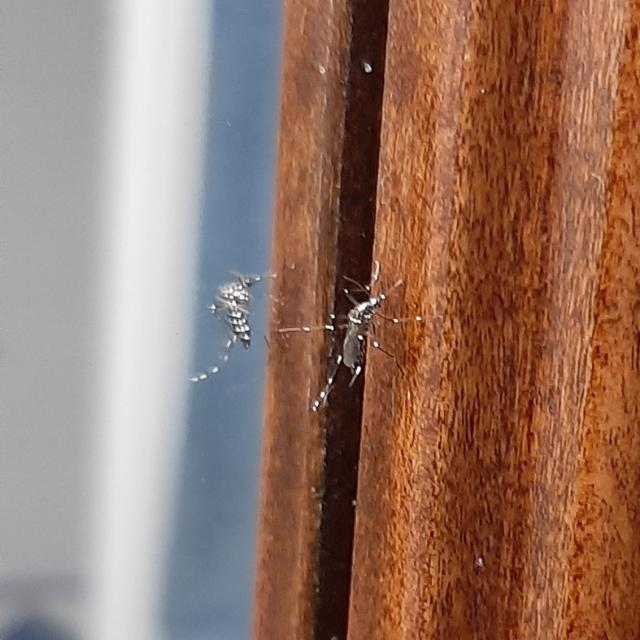albopictus: (284, 251, 432, 411)
